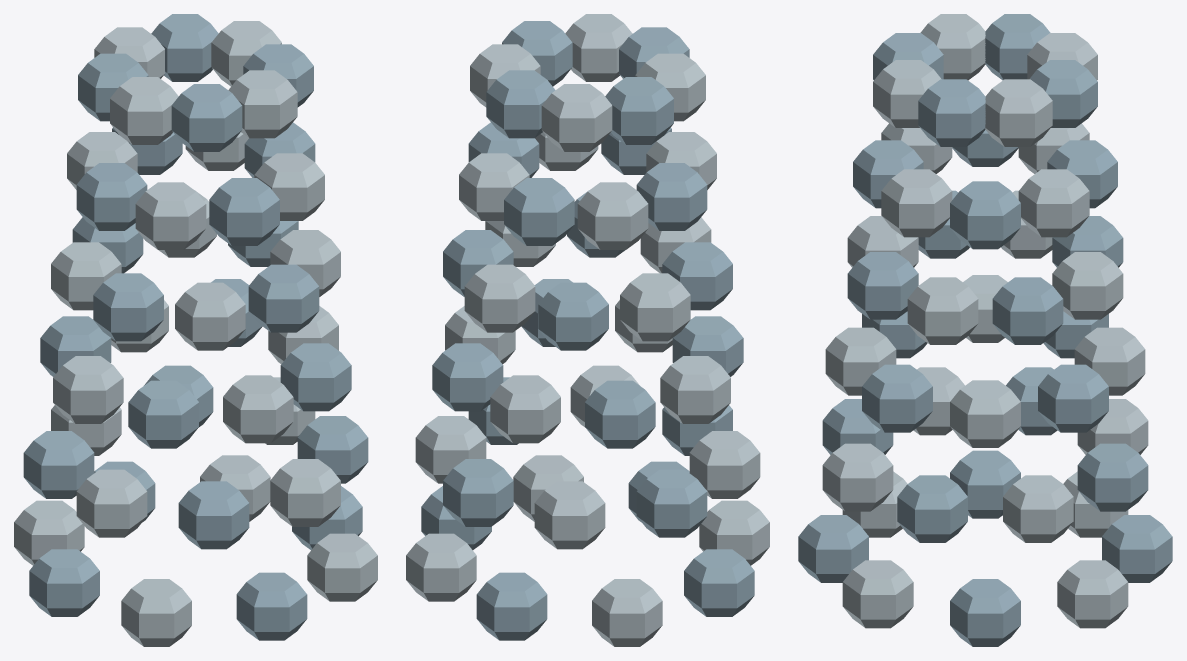
File: owl_tower_broken.glb
3 views of the same model, side by side, from view 1: azimuth 30°, elevation 25°; view 2: azimuth 150°, elevation 25°; view 3: azimuth 270°, elevation 25° (orthographic).
Parts seen in each view (by area): view 1: owl_tower_piece2, owl_tower_piece1, owl_tower_piece6, owl_tower_piece8, owl_tower_piece7, owl_tower_piece4, owl_tower_piece3, owl_tower_piece5; view 2: owl_tower_piece1, owl_tower_piece8, owl_tower_piece2, owl_tower_piece6, owl_tower_piece5, owl_tower_piece4, owl_tower_piece7, owl_tower_piece3, owl_tower_piece0; view 3: owl_tower_piece1, owl_tower_piece8, owl_tower_piece2, owl_tower_piece7, owl_tower_piece6, owl_tower_piece4, owl_tower_piece5, owl_tower_piece3, owl_tower_piece0.
Boxes of the visible parts, left/top/right/bottom form: owl_tower_piece2: left=53, top=199, right=353, bottom=640; owl_tower_piece1: left=40, top=44, right=340, bottom=445; owl_tower_piece6: left=14, top=429, right=377, bottom=646; owl_tower_piece8: left=94, top=14, right=296, bottom=459; owl_tower_piece7: left=132, top=269, right=368, bottom=549; owl_tower_piece4: left=94, top=125, right=326, bottom=475; owl_tower_piece3: left=21, top=260, right=332, bottom=513; owl_tower_piece5: left=72, top=131, right=165, bottom=469; owl_tower_piece1: left=484, top=14, right=716, bottom=549; owl_tower_piece8: left=406, top=37, right=639, bottom=570; owl_tower_piece2: left=521, top=127, right=769, bottom=540; owl_tower_piece6: left=514, top=419, right=769, bottom=646; owl_tower_piece5: left=454, top=195, right=628, bottom=640; owl_tower_piece4: left=415, top=127, right=567, bottom=640; owl_tower_piece7: left=411, top=331, right=547, bottom=640; owl_tower_piece3: left=528, top=196, right=662, bottom=646; owl_tower_piece0: left=406, top=467, right=503, bottom=600; owl_tower_piece1: left=861, top=14, right=1134, bottom=450; owl_tower_piece8: left=970, top=19, right=1133, bottom=617; owl_tower_piece2: left=798, top=132, right=1007, bottom=578; owl_tower_piece7: left=894, top=316, right=1151, bottom=646; owl_tower_piece6: left=816, top=367, right=1102, bottom=628; owl_tower_piece4: left=971, top=197, right=1151, bottom=578; owl_tower_piece5: left=1076, top=123, right=1172, bottom=581; owl_tower_piece3: left=872, top=190, right=1128, bottom=534; owl_tower_piece0: left=1102, top=443, right=1143, bottom=623.
Bounding box in the file's own units: 1.34 × 2.1 × 1.38.
